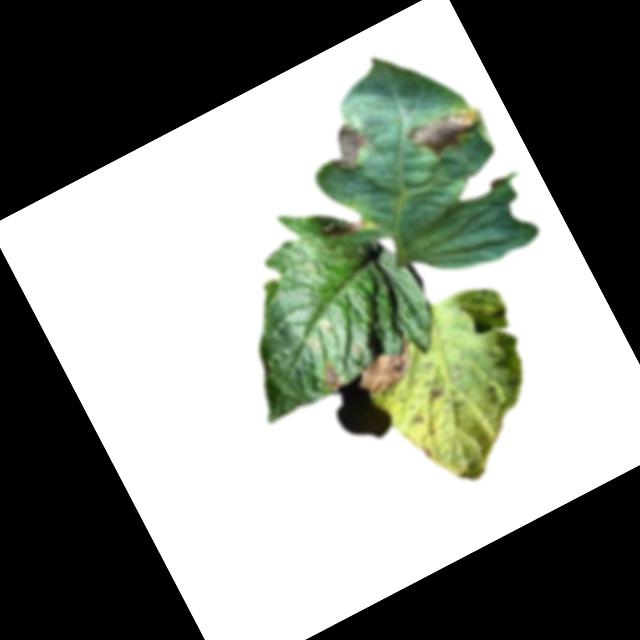Early_blight: (404, 97, 485, 168), (352, 337, 426, 400), (318, 116, 381, 180), (318, 206, 368, 246), (316, 359, 345, 393), (430, 387, 445, 400)
